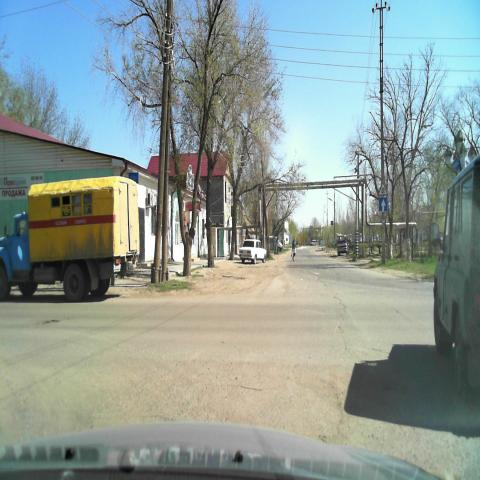1_21: (378, 182, 388, 196)
